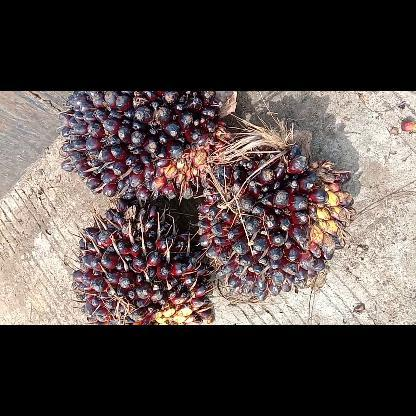TBS mentah: (193, 126, 358, 304), (57, 91, 242, 204), (68, 196, 219, 324)
